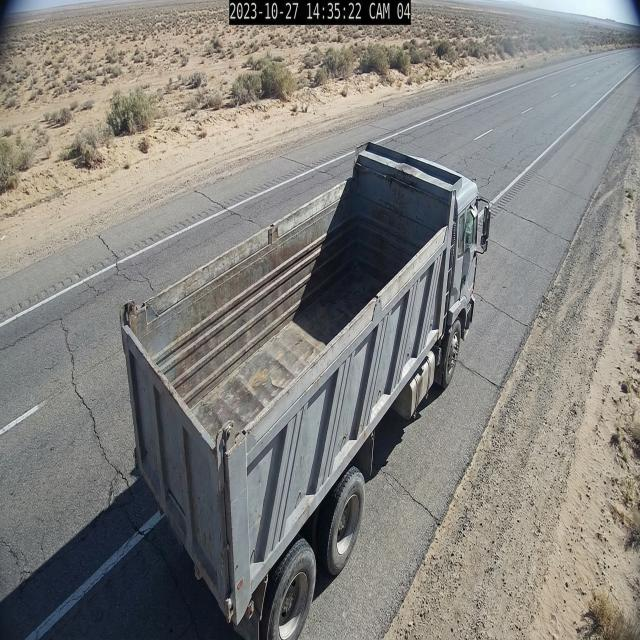Box: (120, 146, 462, 460)
Truck: (104, 138, 498, 636)
